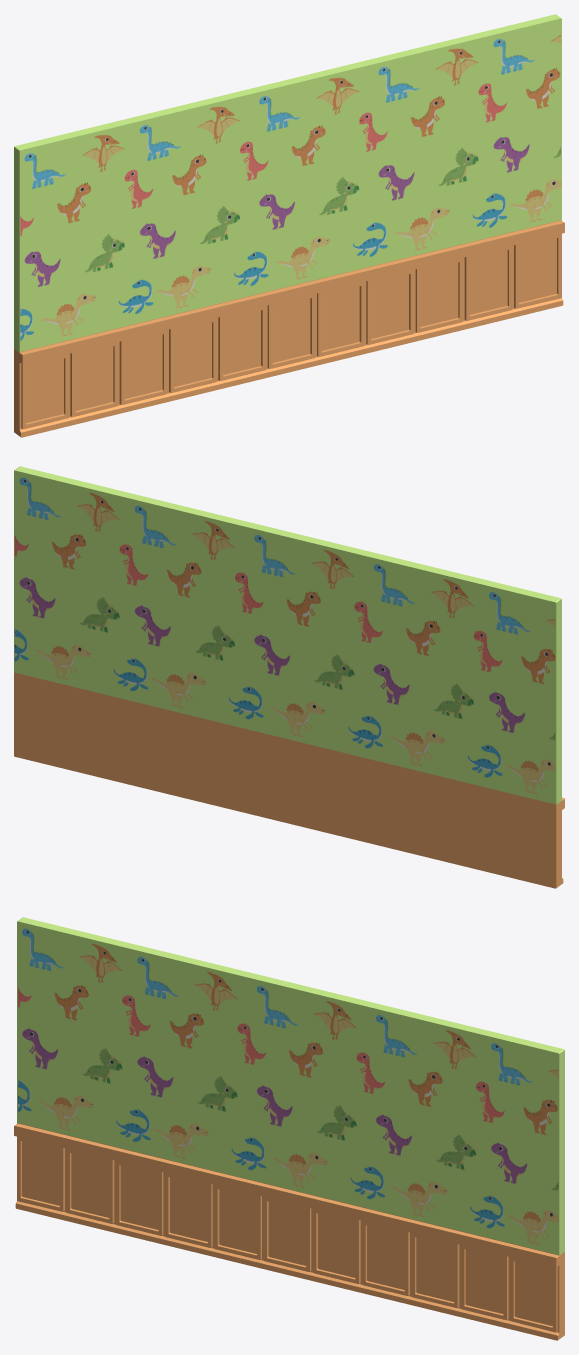
File: dinazorluduvar.fbx
3 views of the same model, one above another, from view 1: azimuth 30°, elevation 25°; view 2: azimuth 150°, elevation 25°; view 3: azimuth 330°, elevation 25° (orthographic).
Parts seen in each view (by area): view 1: Cube.046; view 2: Cube.046; view 3: Cube.046.
Part boxes in pixels (x1,y1,x2,y2): Cube.046: [14, 14, 564, 437]; Cube.046: [14, 466, 564, 888]; Cube.046: [14, 917, 564, 1340].
Bounding box in the file's own units: 1889 × 53.19 × 953.
